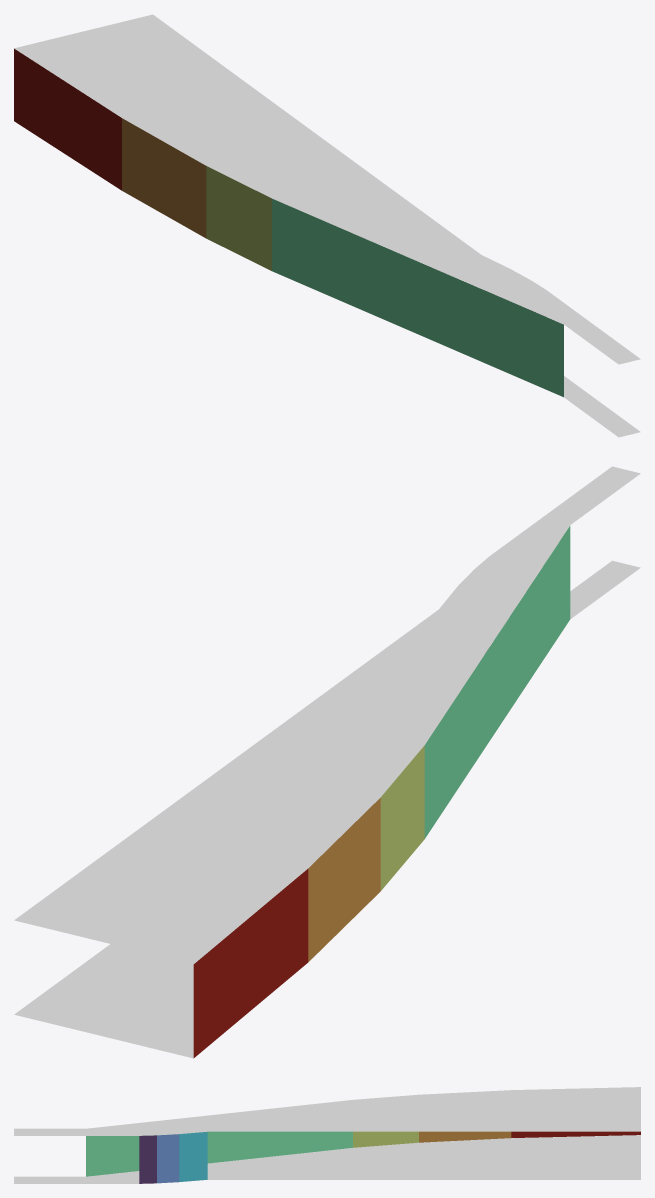
Rendered from scramjet.glb.
3 renders of one model, top to bottom at view 1: azimuth 30°, elevation 25°; view 2: azimuth 150°, elevation 25°; view 3: azimuth 270°, elevation 25°, orthographic. The views are drawn at different scales.
Parts seen in each view (by area): view 1: Renderer Node; view 2: Renderer Node; view 3: Renderer Node.
Boxes of the visible parts, bbox=[...] form: Renderer Node: bbox=[14, 14, 640, 437]; Renderer Node: bbox=[14, 466, 640, 1058]; Renderer Node: bbox=[14, 1087, 640, 1183].
Size of the model in its own units: 1.09 by 0.501 by 5.92.
